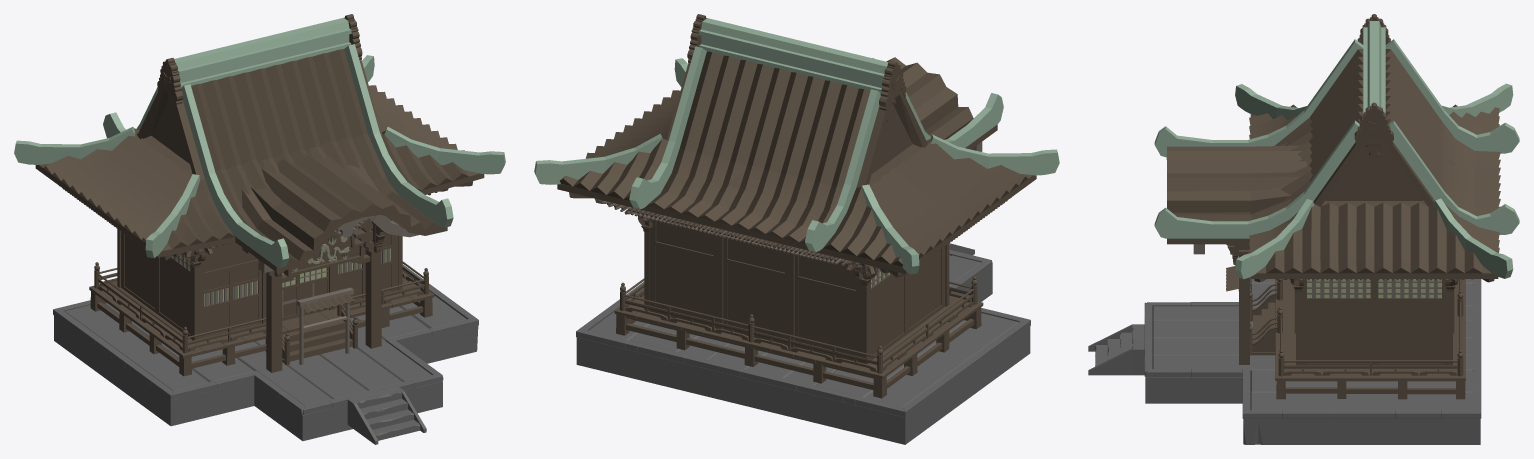
File: 神社主体.fbx
The picture shows the model from 3 angles, left to right: view 1: azimuth 30°, elevation 25°; view 2: azimuth 150°, elevation 25°; view 3: azimuth 270°, elevation 25°; orthographic projection. The views are drawn at different scales.
Parts seen in each view (by area): view 1: polySurface3591; view 2: polySurface3591; view 3: polySurface3591.
Part boxes in pixels (x1,y1,x2,y2): polySurface3591: [14, 14, 505, 444]; polySurface3591: [534, 14, 1059, 444]; polySurface3591: [1088, 14, 1519, 444].
Size of the model in its own units: 1304 by 1053 by 1332.
Materials: 1 (1 with a texture image).
